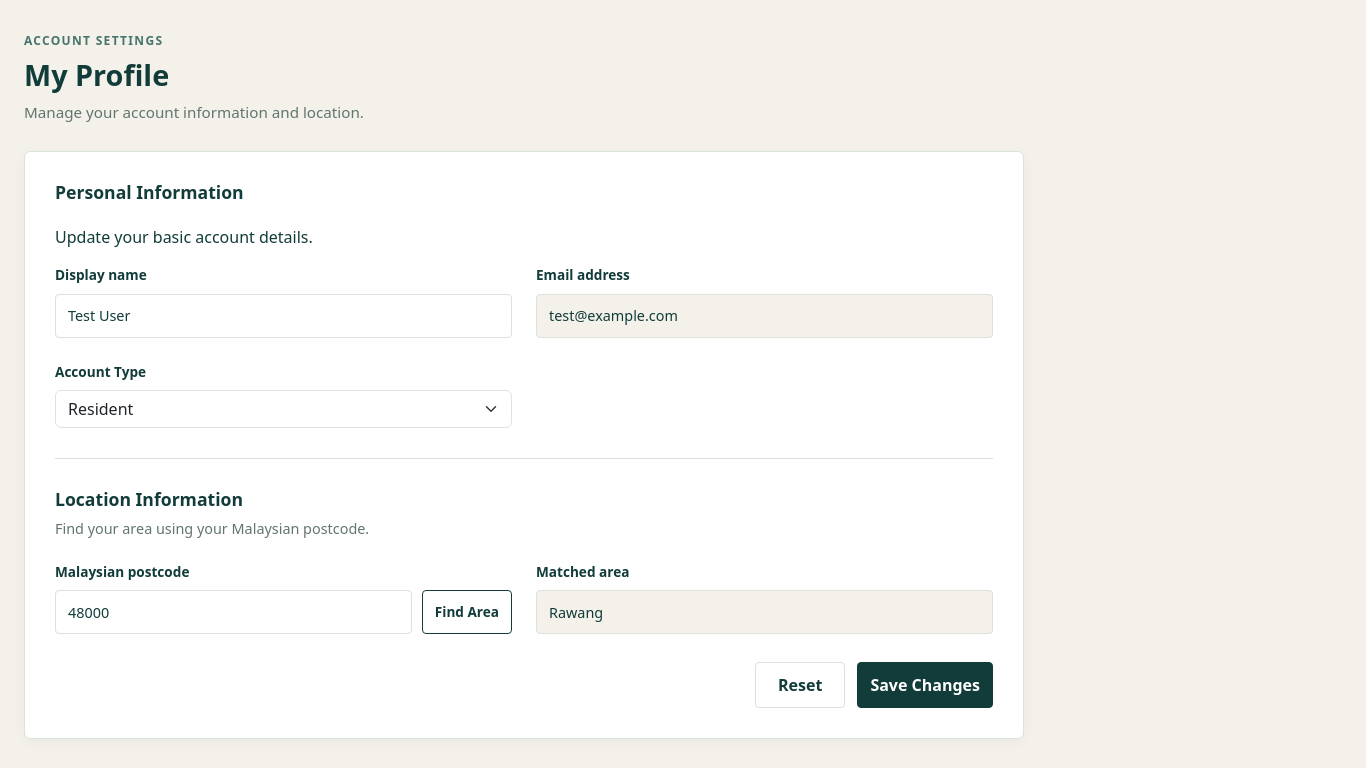
Test: Profile › shows an error for an invalid postcode
Replace the text in the field labelled "Malaysian postcode" with "123" at (233, 612), box left=55, top=590, right=412, bottom=634
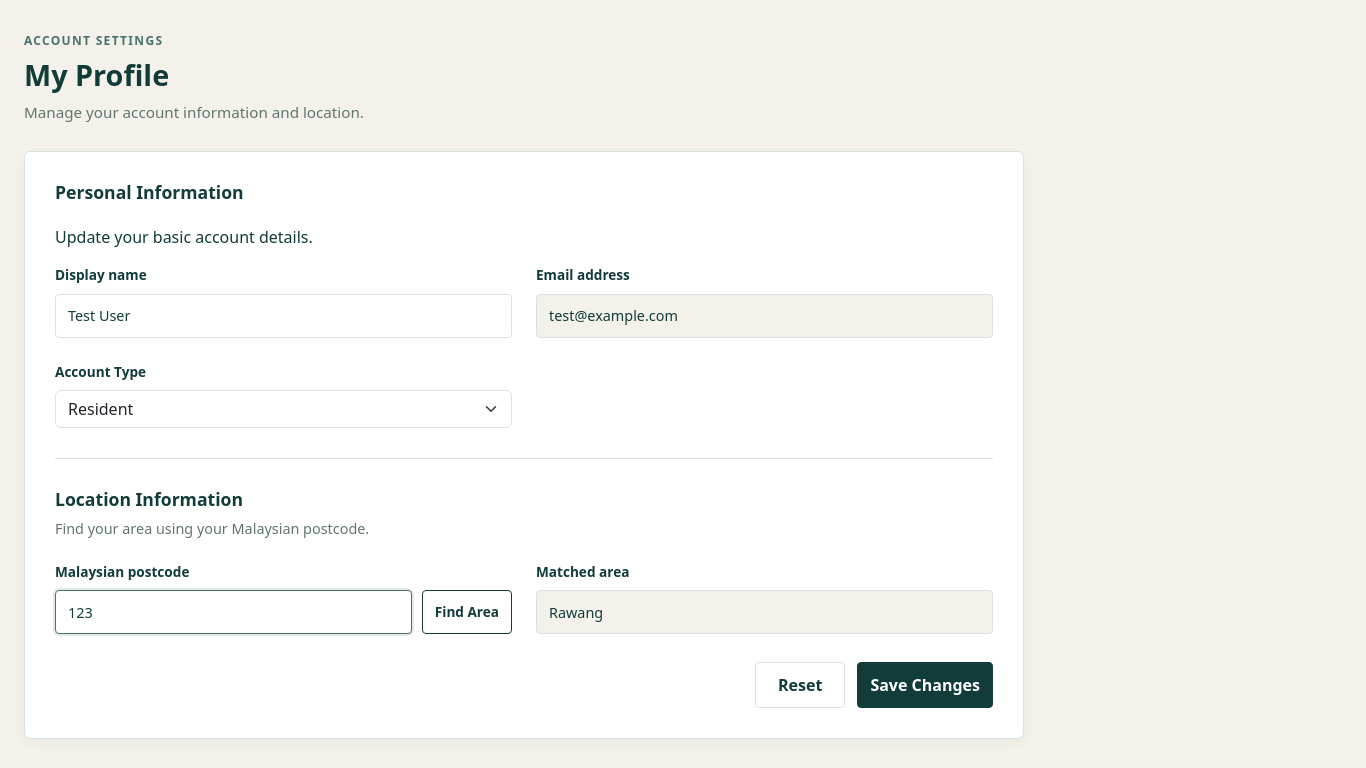
Click the button "Find Area" at (467, 612), box left=422, top=590, right=512, bottom=634
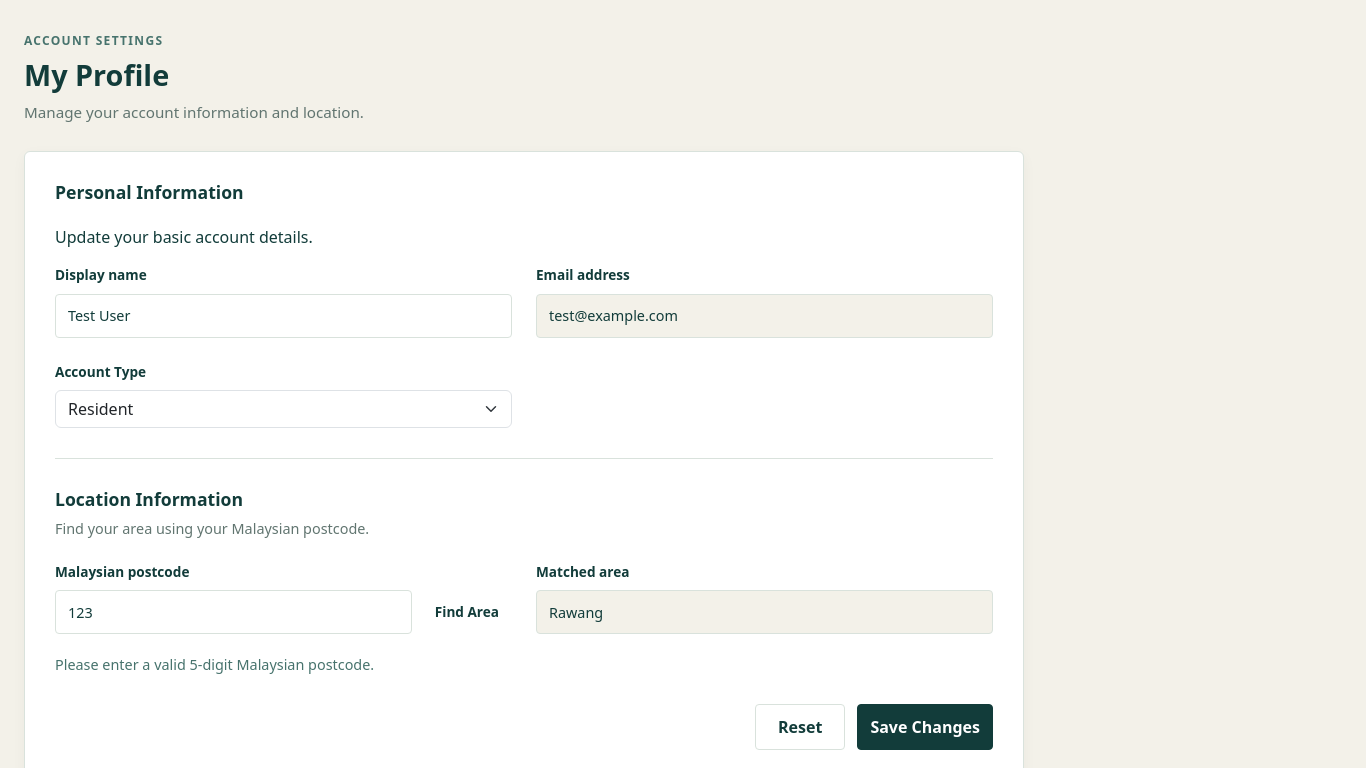
Now the text "Please enter a valid 5-digit Malaysian postcode." is shown, box left=55, top=655, right=374, bottom=674
